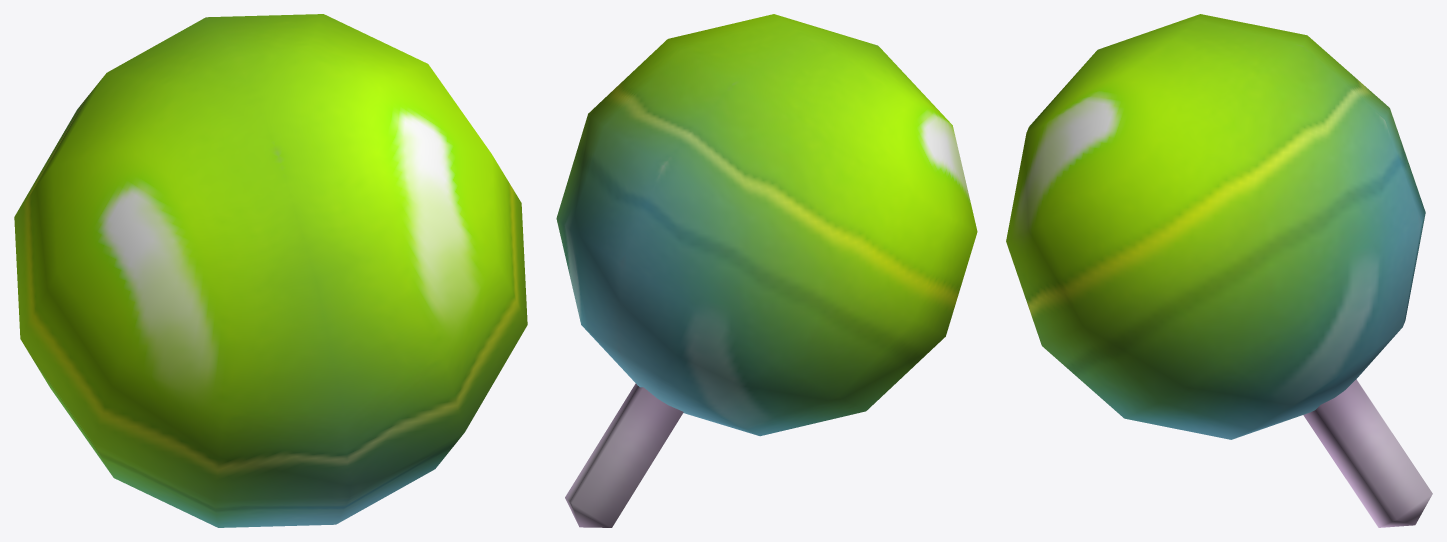
The model's file is scenes_candy_tools01.FBX.
3 views of the same model, side by side, from view 1: azimuth 30°, elevation 25°; view 2: azimuth 150°, elevation 25°; view 3: azimuth 270°, elevation 25° (orthographic). The views are drawn at different scales.
Parts seen in each view (by area): view 1: scenes_candy_tools01; view 2: scenes_candy_tools01; view 3: scenes_candy_tools01.
Part boxes in pixels (<box>): scenes_candy_tools01: <box>14,14,527,527</box>; scenes_candy_tools01: <box>556,14,977,527</box>; scenes_candy_tools01: <box>1006,14,1432,527</box>.
Bounding box in the file's own units: 81.56 × 98 × 84.2.
